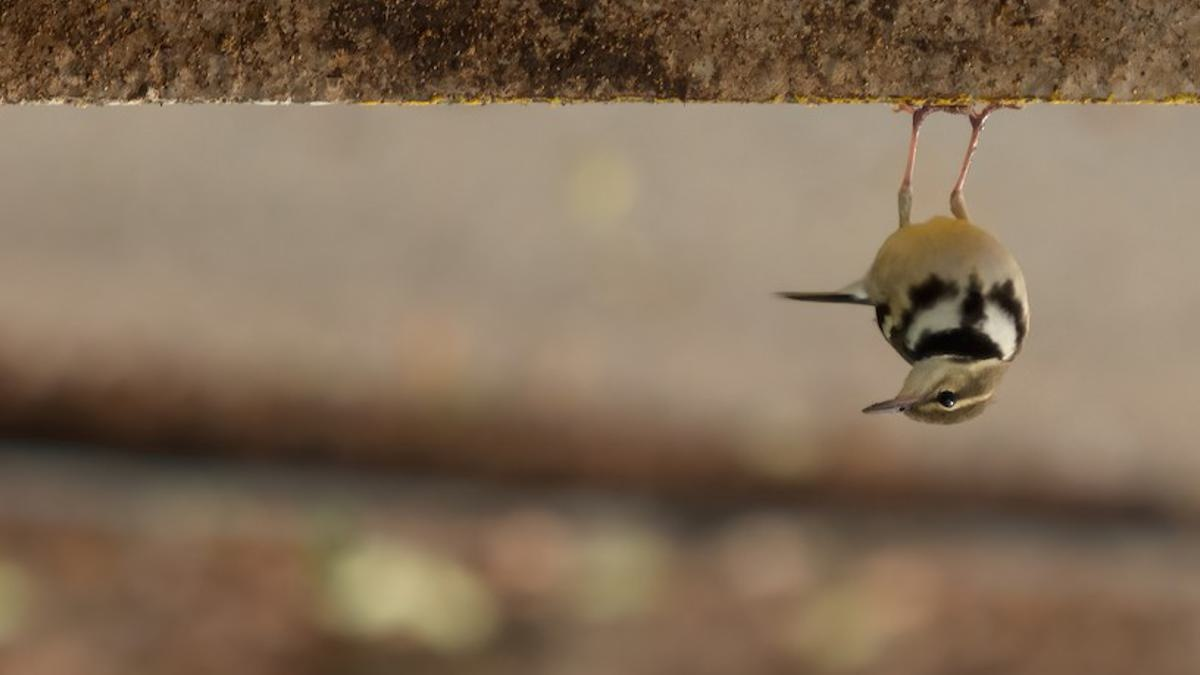wagtail: (759, 90, 1050, 434)
